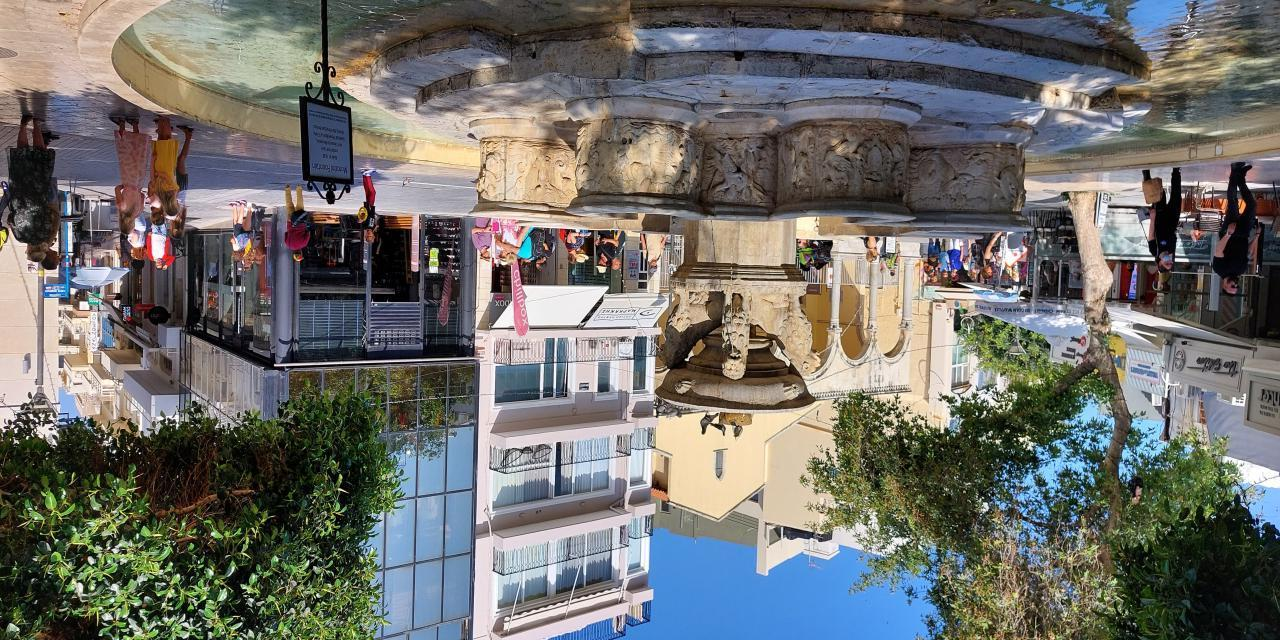Liontaria: (467, 99, 1027, 430)
